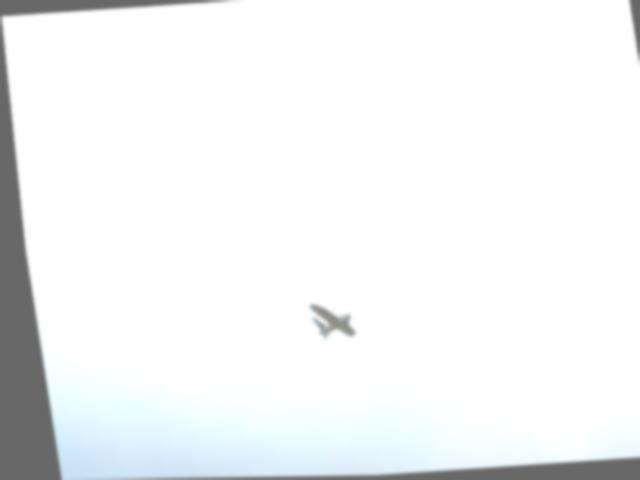uav: (292, 295, 358, 351)
